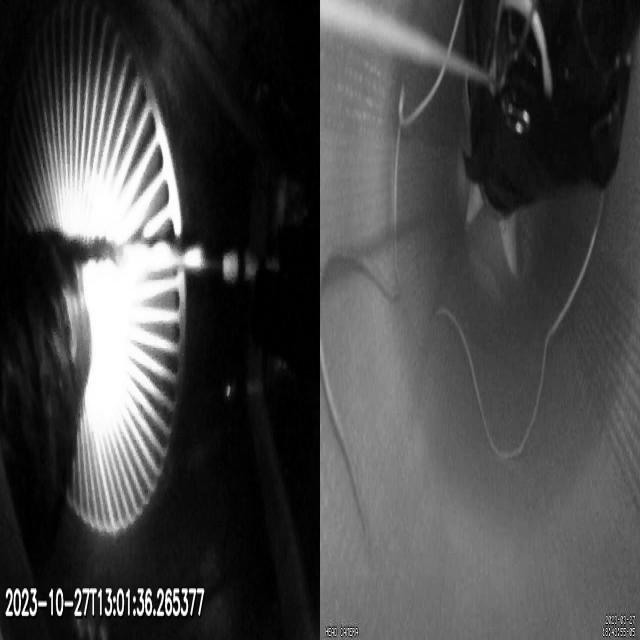white-dots: (222, 248, 281, 282)
